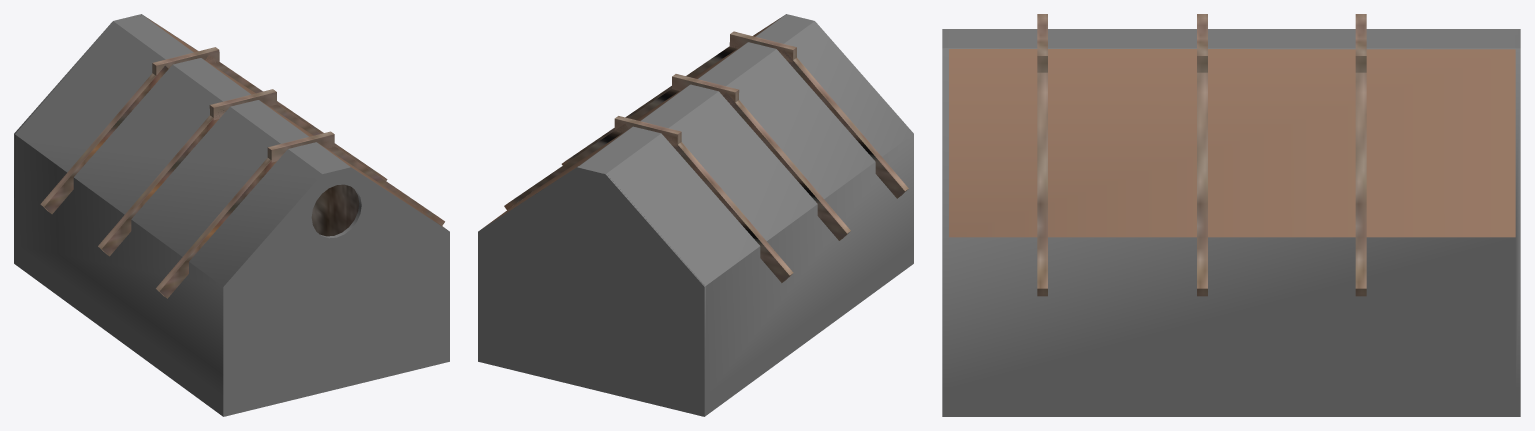
The model's file is Attic.obj.
The picture shows the model from 3 angles, left to right: view 1: azimuth 30°, elevation 25°; view 2: azimuth 150°, elevation 25°; view 3: azimuth 270°, elevation 25°; orthographic projection. The views are drawn at different scales.
Parts seen in each view (by area): view 1: pasted__pasted__pasted__pasted__pasted__pasted__pCube1; view 2: pasted__pasted__pasted__pasted__pasted__pasted__pCube1; view 3: pasted__pasted__pasted__pasted__pasted__pasted__pCube1.
Boxes of the visible parts, <box> form: pasted__pasted__pasted__pasted__pasted__pasted__pCube1: <box>14,14,449,416</box>; pasted__pasted__pasted__pasted__pasted__pasted__pCube1: <box>478,14,913,416</box>; pasted__pasted__pasted__pasted__pasted__pasted__pCube1: <box>942,14,1520,416</box>.
Bounding box in the file's own units: 15.98 × 11.86 × 20.28.
Materials: 8 (7 with a texture image).
